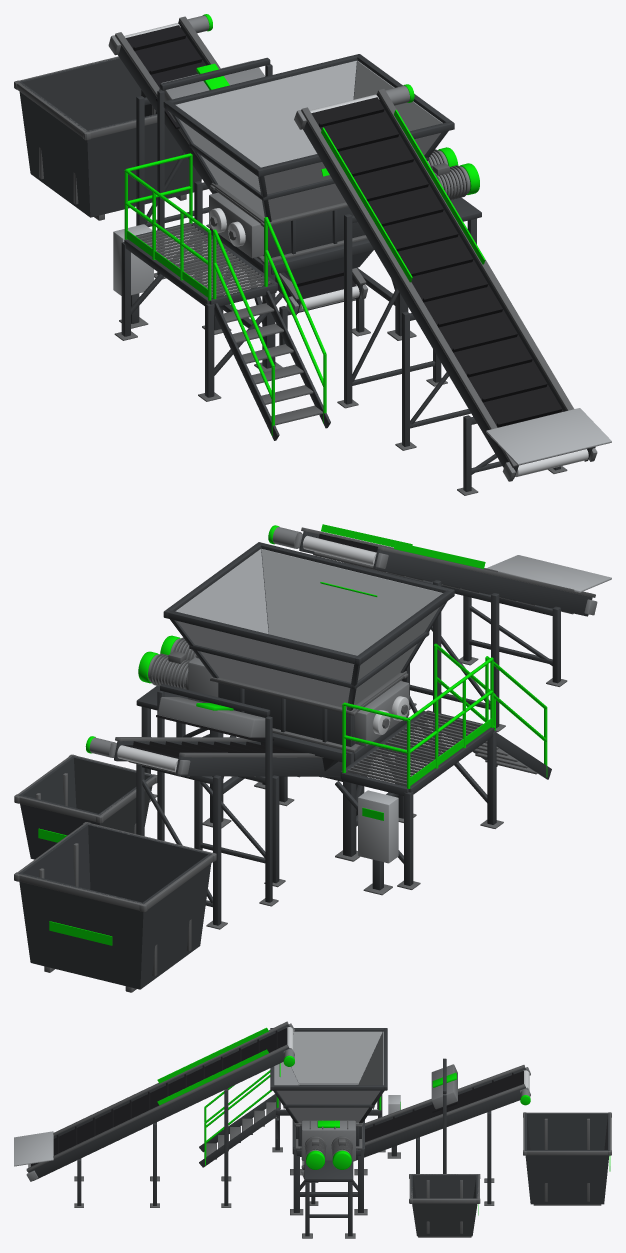
The model's file is shred-line.glb.
The picture shows the model from 3 angles, top to bottom: view 1: azimuth 30°, elevation 25°; view 2: azimuth 150°, elevation 25°; view 3: azimuth 270°, elevation 25°; orthographic projection. The views are drawn at different scales.
Visible parts, largest first — view 1: P_infeed_rubber, P_bin_body, P_hopper_panel, P_infeed_body, P_frame_body, P_frame_dark, P_frame_accent, P_discharge_body, P_hopper_body, P_infeed_dark, P_infeed_panel, P_discharge_rubber (+13 smaller); view 2: P_bin_body, P_hopper_panel, P_discharge_body, P_infeed_body, P_frame_body, P_hopper_body, P_frame_dark, P_frame_accent, P_bin_dark, P_chamber_body, P_discharge_motor, P_frame_panel (+15 smaller); view 3: P_bin_body, P_hopper_panel, P_infeed_body, P_infeed_rubber, P_discharge_body, P_frame_body, P_bin_dark, P_infeed_dark, P_hopper_body, P_discharge_rubber, P_drive_body, P_discharge_dark (+9 smaller).
Part boxes in pixels (left/top/right/bottom): P_infeed_rubber: left=311, top=97, right=585, bottom=465; P_bin_body: left=19, top=57, right=201, bottom=217; P_hopper_panel: left=175, top=60, right=442, bottom=220; P_infeed_body: left=303, top=92, right=592, bottom=491; P_frame_body: left=121, top=222, right=408, bottom=440; P_frame_dark: left=114, top=223, right=416, bottom=425; P_frame_accent: left=124, top=153, right=326, bottom=435; P_discharge_body: left=118, top=20, right=364, bottom=345; P_hopper_body: left=163, top=54, right=454, bottom=221; P_infeed_dark: left=301, top=89, right=595, bottom=495; P_infeed_panel: left=486, top=408, right=611, bottom=465; P_discharge_rubber: left=126, top=25, right=356, bottom=298; P_bin_body: left=18, top=756, right=211, bottom=989; P_hopper_panel: left=175, top=549, right=442, bottom=708; P_discharge_body: left=114, top=684, right=364, bottom=925; P_infeed_body: left=299, top=531, right=592, bottom=751; P_frame_body: left=210, top=710, right=551, bottom=890; P_hopper_body: left=163, top=542, right=454, bottom=710; P_frame_dark: left=202, top=711, right=537, bottom=895; P_frame_accent: left=342, top=643, right=547, bottom=820; P_bin_dark: left=14, top=754, right=216, bottom=992; P_chamber_body: left=218, top=683, right=354, bottom=770; P_discharge_motor: left=89, top=697, right=362, bottom=775; P_frame_panel: left=358, top=790, right=398, bottom=863; P_bin_body: left=411, top=1113, right=609, bottom=1236; P_hopper_panel: left=274, top=1031, right=383, bottom=1122; P_infeed_body: left=28, top=1024, right=293, bottom=1205; P_infeed_rubber: left=30, top=1028, right=287, bottom=1166; P_discharge_body: left=302, top=1058, right=526, bottom=1204; P_frame_body: left=199, top=1094, right=396, bottom=1212; P_bin_dark: left=409, top=1112, right=611, bottom=1237; P_infeed_dark: left=26, top=1021, right=288, bottom=1207; P_hopper_body: left=270, top=1028, right=387, bottom=1123; P_discharge_rubber: left=365, top=1071, right=523, bottom=1142; P_drive_body: left=304, top=1161, right=353, bottom=1236; P_discharge_dark: left=301, top=1065, right=524, bottom=1205.
Size of the model in its own units: 5.12 by 3.94 by 13.41.
